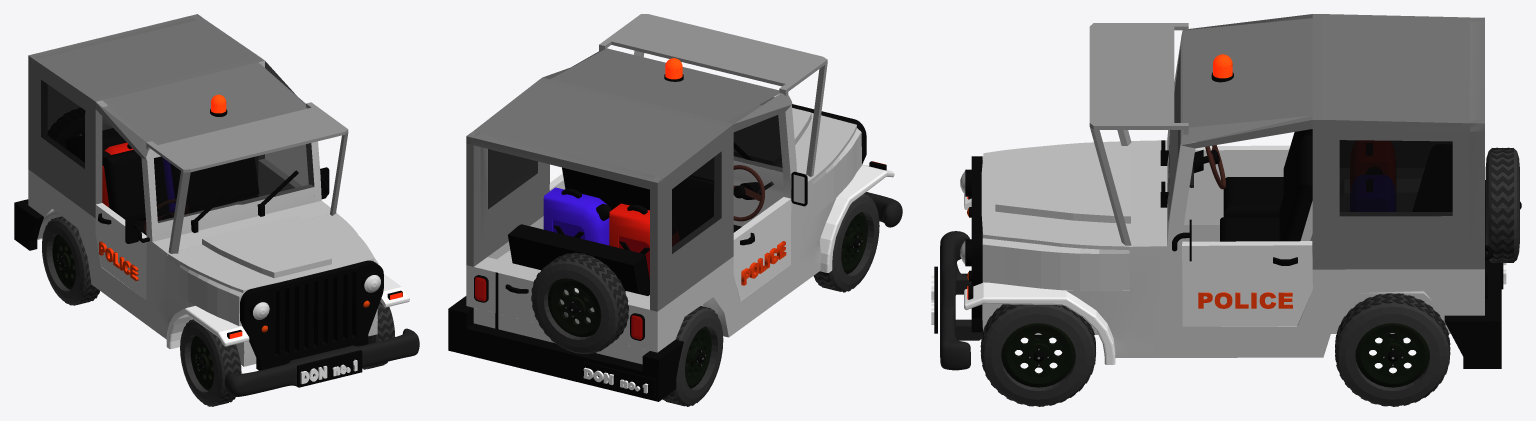
Rendered from police_jeep.glb.
3 views of the same model, side by side, from view 1: azimuth 30°, elevation 25°; view 2: azimuth 150°, elevation 25°; view 3: azimuth 270°, elevation 25° (orthographic). The views are drawn at different scales.
Parts seen in each view (by area): view 1: BODY, RIGHT FRONT WHEEL, BACK RIGHT WHEEL, LEFT FRONT WHEEL, Cube; view 2: BODY, BACK RIGHT WHEEL, RIGHT FRONT WHEEL, Cube.001, Cube, STEERING WHEEL; view 3: BODY, BACK LEFT WHEEL, LEFT FRONT WHEEL, STEERING WHEEL, Cylinder.
Boxes of the visible parts, x1,y1,x2,y2 form: BODY: (14,14,419,396); RIGHT FRONT WHEEL: (180,319,241,406); BACK RIGHT WHEEL: (42,216,99,305); LEFT FRONT WHEEL: (362,301,394,369); Cube: (102,142,133,207); BODY: (448,14,902,401); BACK RIGHT WHEEL: (662,306,723,406); RIGHT FRONT WHEEL: (813,193,879,292); Cube.001: (543,187,611,245); Cube: (609,203,649,279); STEERING WHEEL: (733,165,764,221); BODY: (931,14,1521,370); BACK LEFT WHEEL: (1335,293,1450,406); LEFT FRONT WHEEL: (980,304,1095,406); STEERING WHEEL: (1203,145,1225,189); Cylinder: (1211,54,1233,82).
Size of the model in its own units: 2.06 by 2.28 by 4.05.
